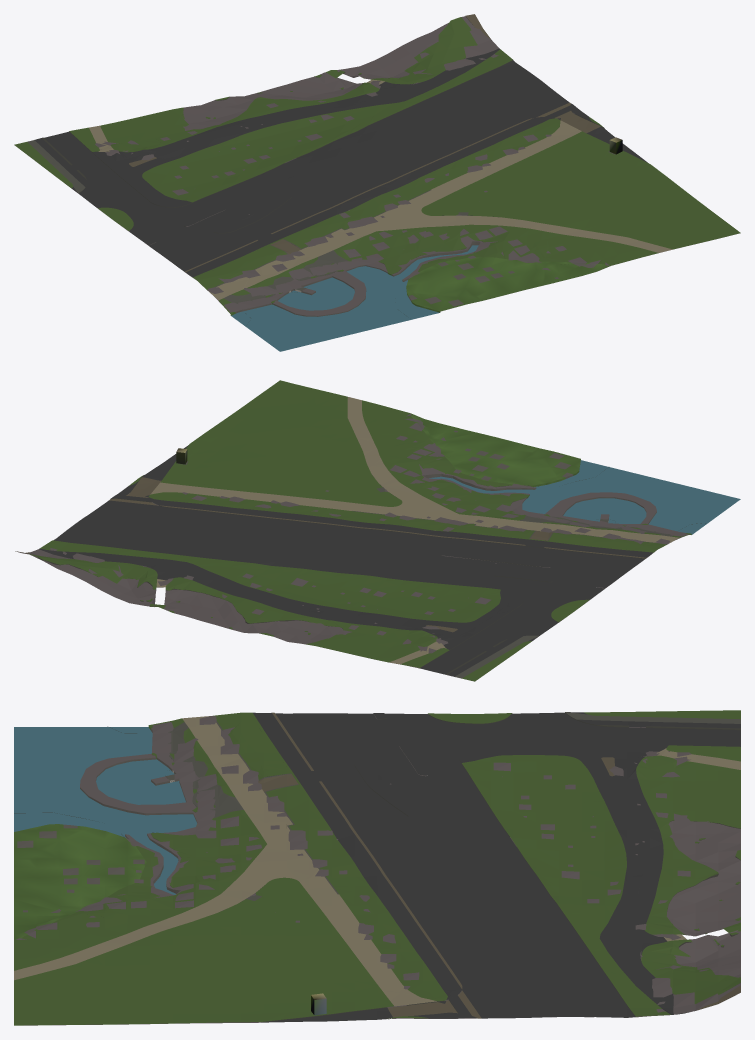
3 renders of one model, top to bottom at view 1: azimuth 30°, elevation 25°; view 2: azimuth 150°, elevation 25°; view 3: azimuth 270°, elevation 25°, orthographic. The views are drawn at different scales.
Parts seen in each view (by area): view 1: c_m08_m14, append:c_m08_m14; view 2: c_m08_m14, append:c_m08_m14; view 3: c_m08_m14, append:c_m08_m14.
Boxes of the visible parts, box(x1,y1,x2,y2) form: c_m08_m14: box(14, 14, 740, 351); append:c_m08_m14: box(230, 241, 480, 316); c_m08_m14: box(15, 380, 740, 681); append:c_m08_m14: box(423, 459, 691, 534); c_m08_m14: box(14, 710, 740, 1025); append:c_m08_m14: box(80, 725, 197, 893).
Size of the model in its own units: 128 by 8.3 by 128.
